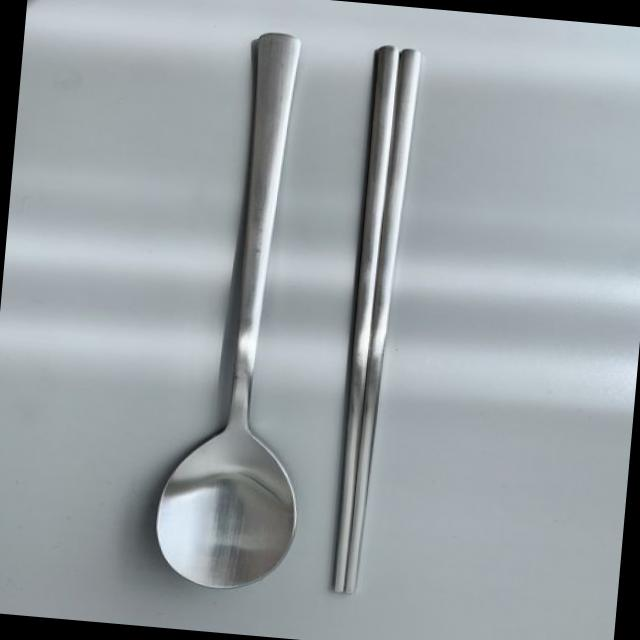spoon: (143, 0, 352, 603)
